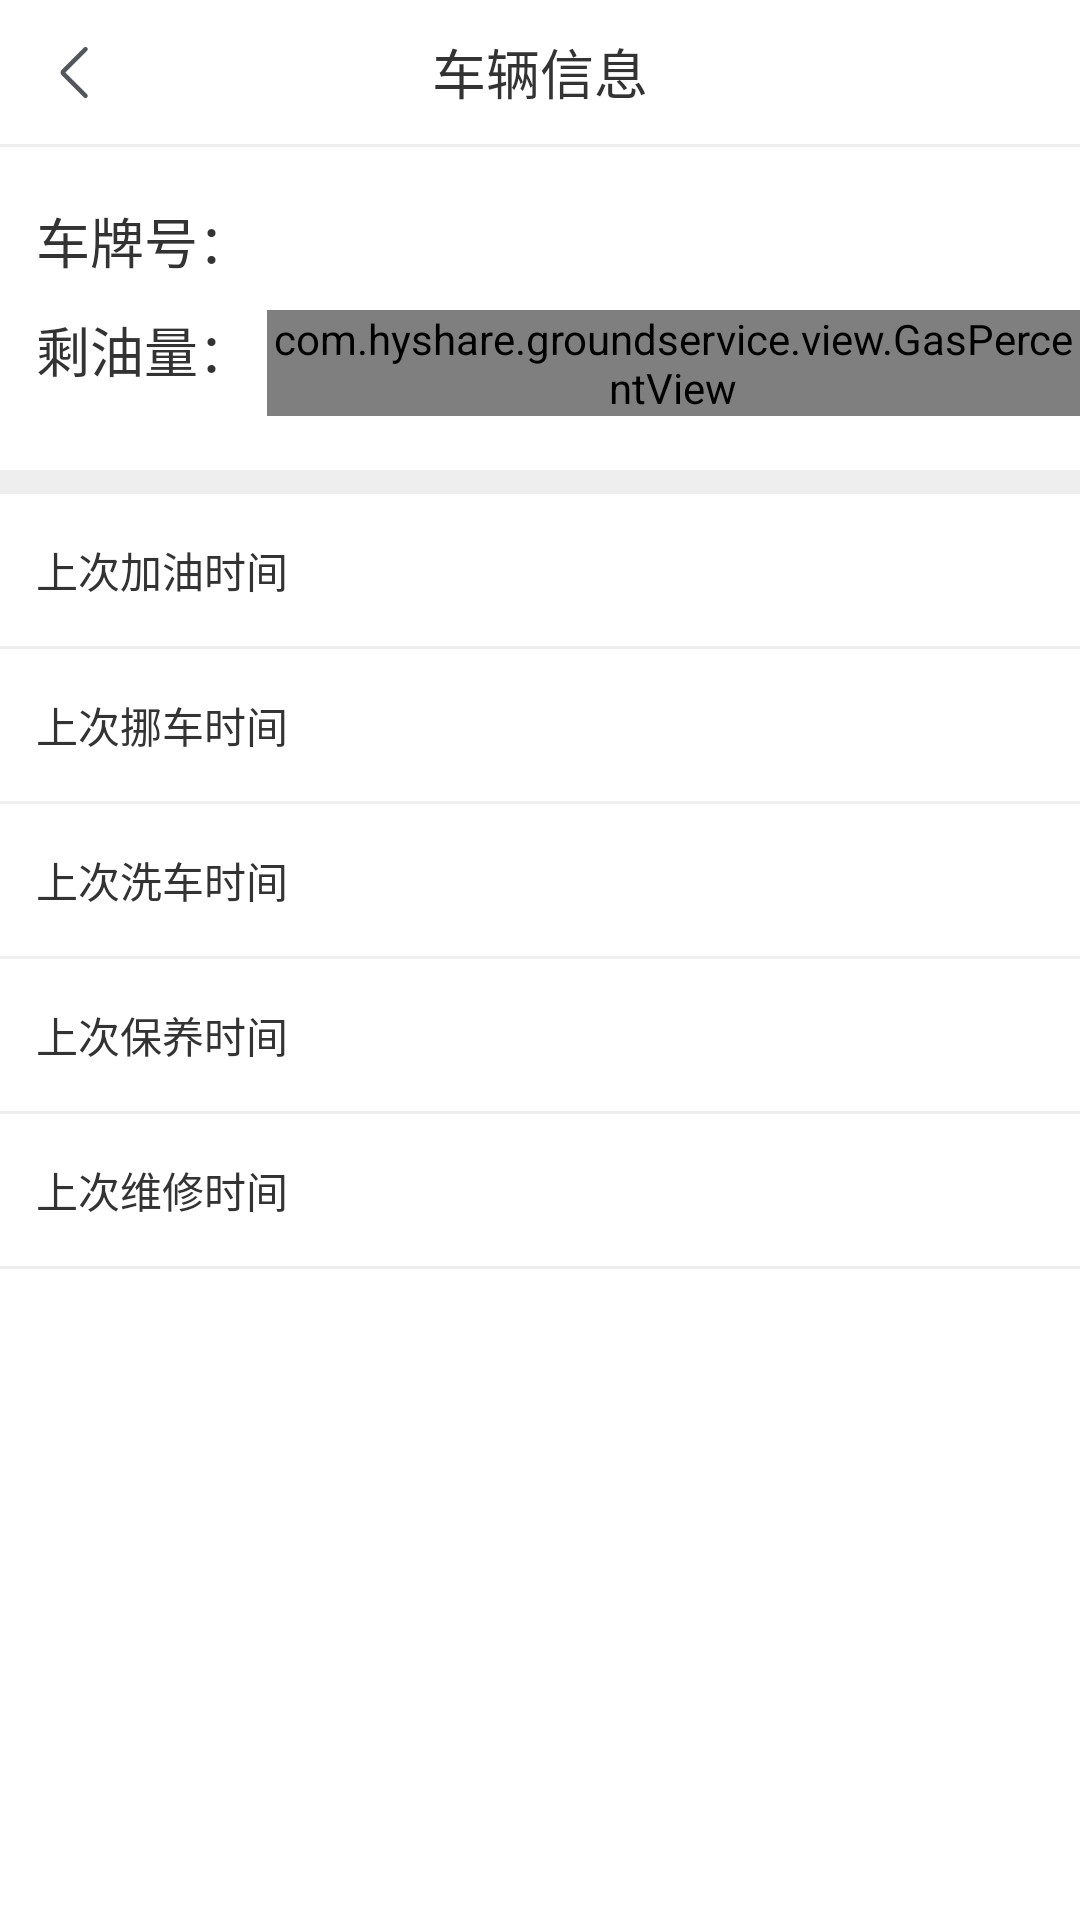

Where icons sit on this 1080px×1920px app screen, as (x1, y1, x2, y2):
back: (60, 47, 88, 98)
